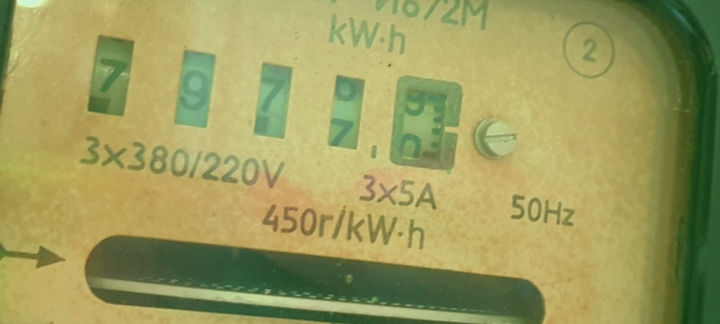0: (396, 127, 422, 158)
7: (90, 50, 128, 98), (323, 107, 357, 151), (254, 71, 287, 115)
9: (175, 63, 210, 113), (399, 83, 431, 118)
screen: (69, 19, 480, 186)
